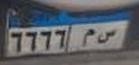6: (11, 30, 24, 52), (25, 31, 38, 51), (41, 30, 53, 49), (55, 27, 66, 47)
meem: (80, 28, 95, 47)
seen: (96, 28, 119, 44)
